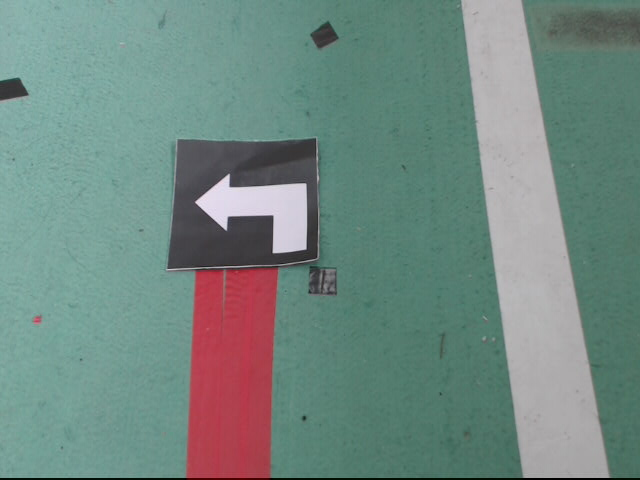left: (164, 135, 322, 269)
